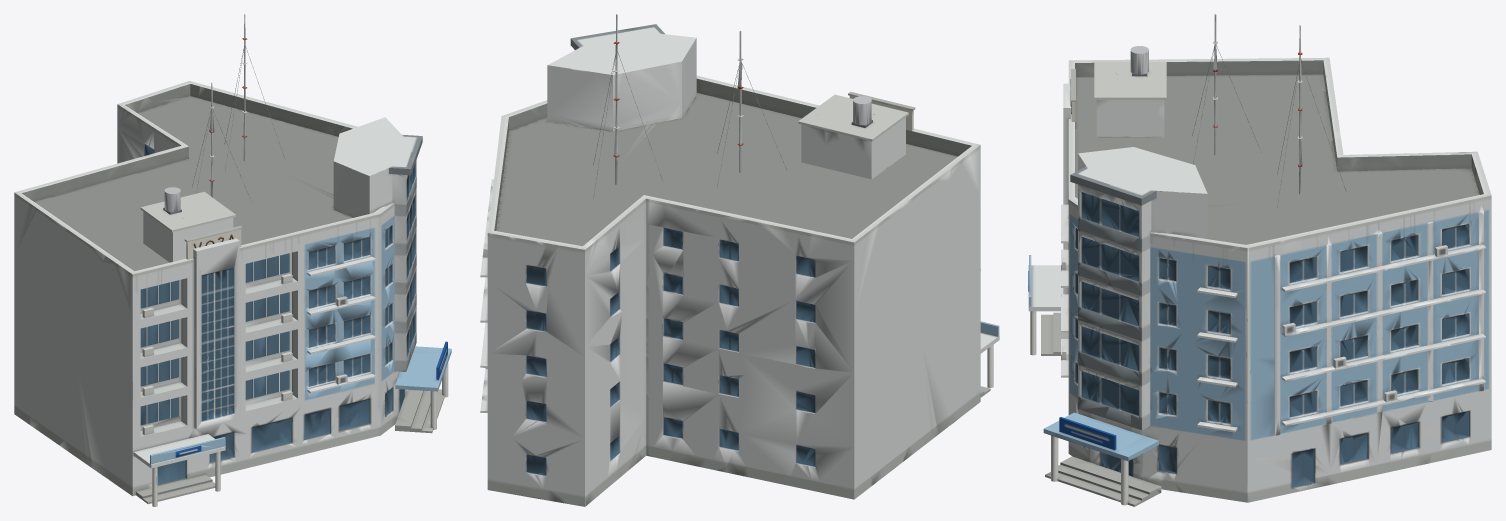
File: cang_vu_vung_tau.glb
3 renders of one model, left to right at view 1: azimuth 30°, elevation 25°; view 2: azimuth 150°, elevation 25°; view 3: azimuth 270°, elevation 25°, orthographic. The views are drawn at different scales.
Visible parts, largest first — view 1: cang_vu_vung_tau; view 2: cang_vu_vung_tau; view 3: cang_vu_vung_tau.
Boxes of the visible parts, bbox=[...] form: cang_vu_vung_tau: bbox=[14, 14, 451, 506]; cang_vu_vung_tau: bbox=[480, 14, 999, 506]; cang_vu_vung_tau: bbox=[1028, 14, 1491, 506].
Size of the model in its own units: 30.03 by 29.25 by 30.02.
2 materials, 2 textured.
